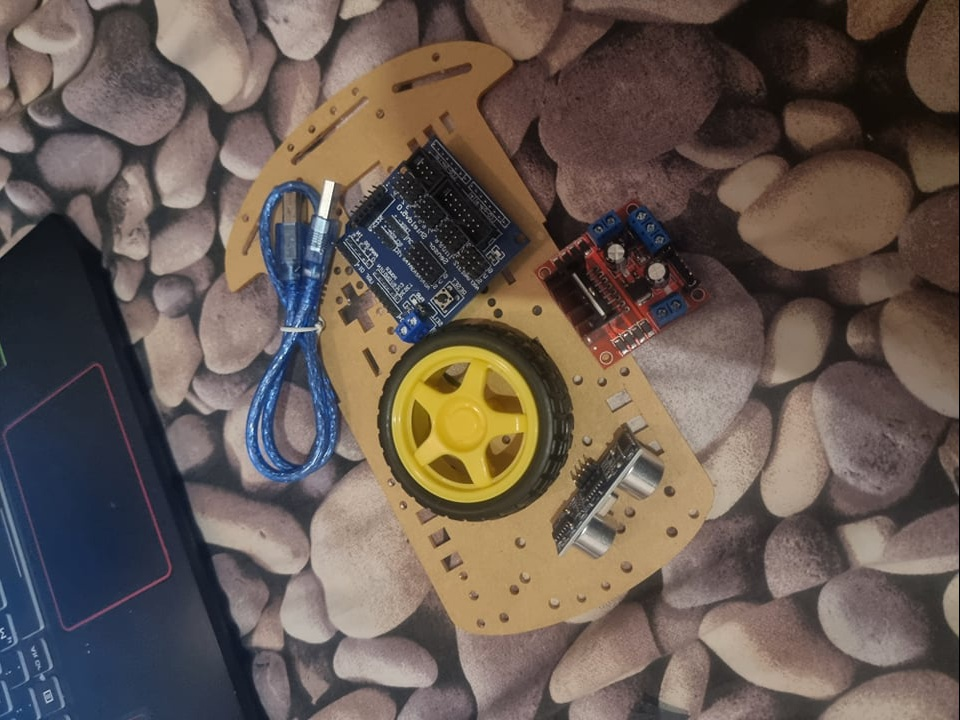5V EXPANSION: (335, 131, 535, 343)
MOTOR: (537, 199, 713, 371)
SENSOR: (552, 430, 667, 560)
